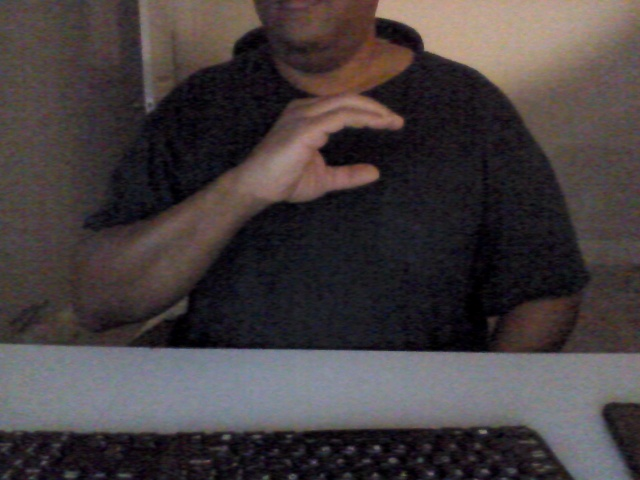police: (241, 90, 416, 210)
